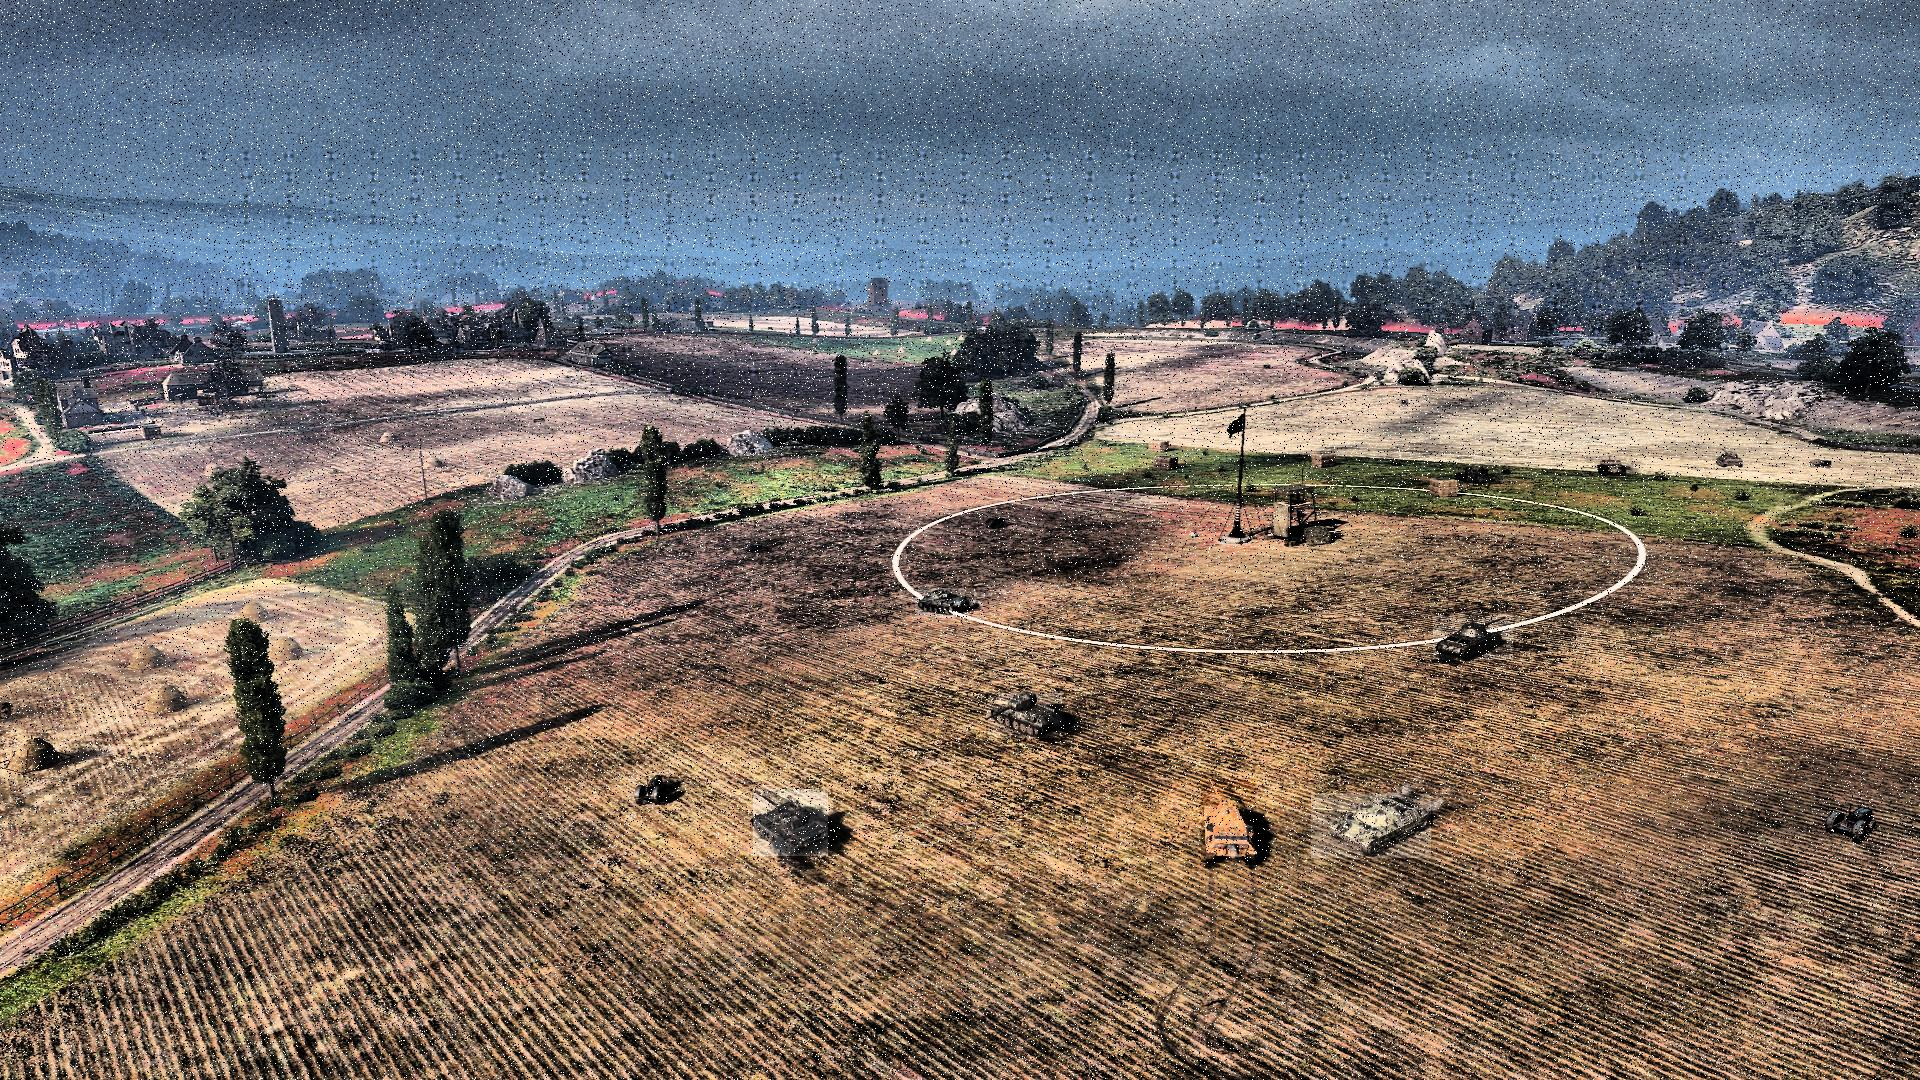military-vehicle: (1312, 794, 1432, 858), (753, 790, 828, 857), (1201, 778, 1257, 864), (1433, 615, 1514, 661), (988, 694, 1062, 738), (915, 588, 965, 618)
